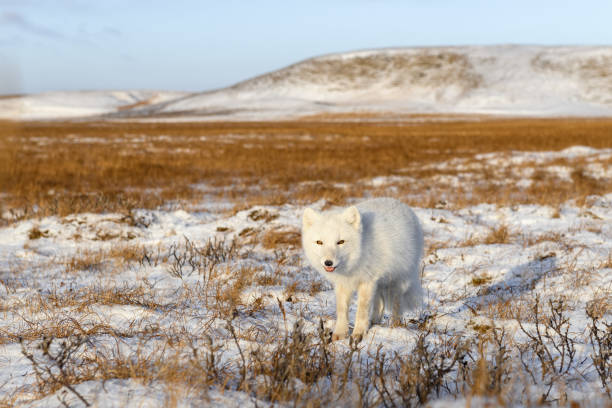arcticfox: (307, 212, 362, 281)
